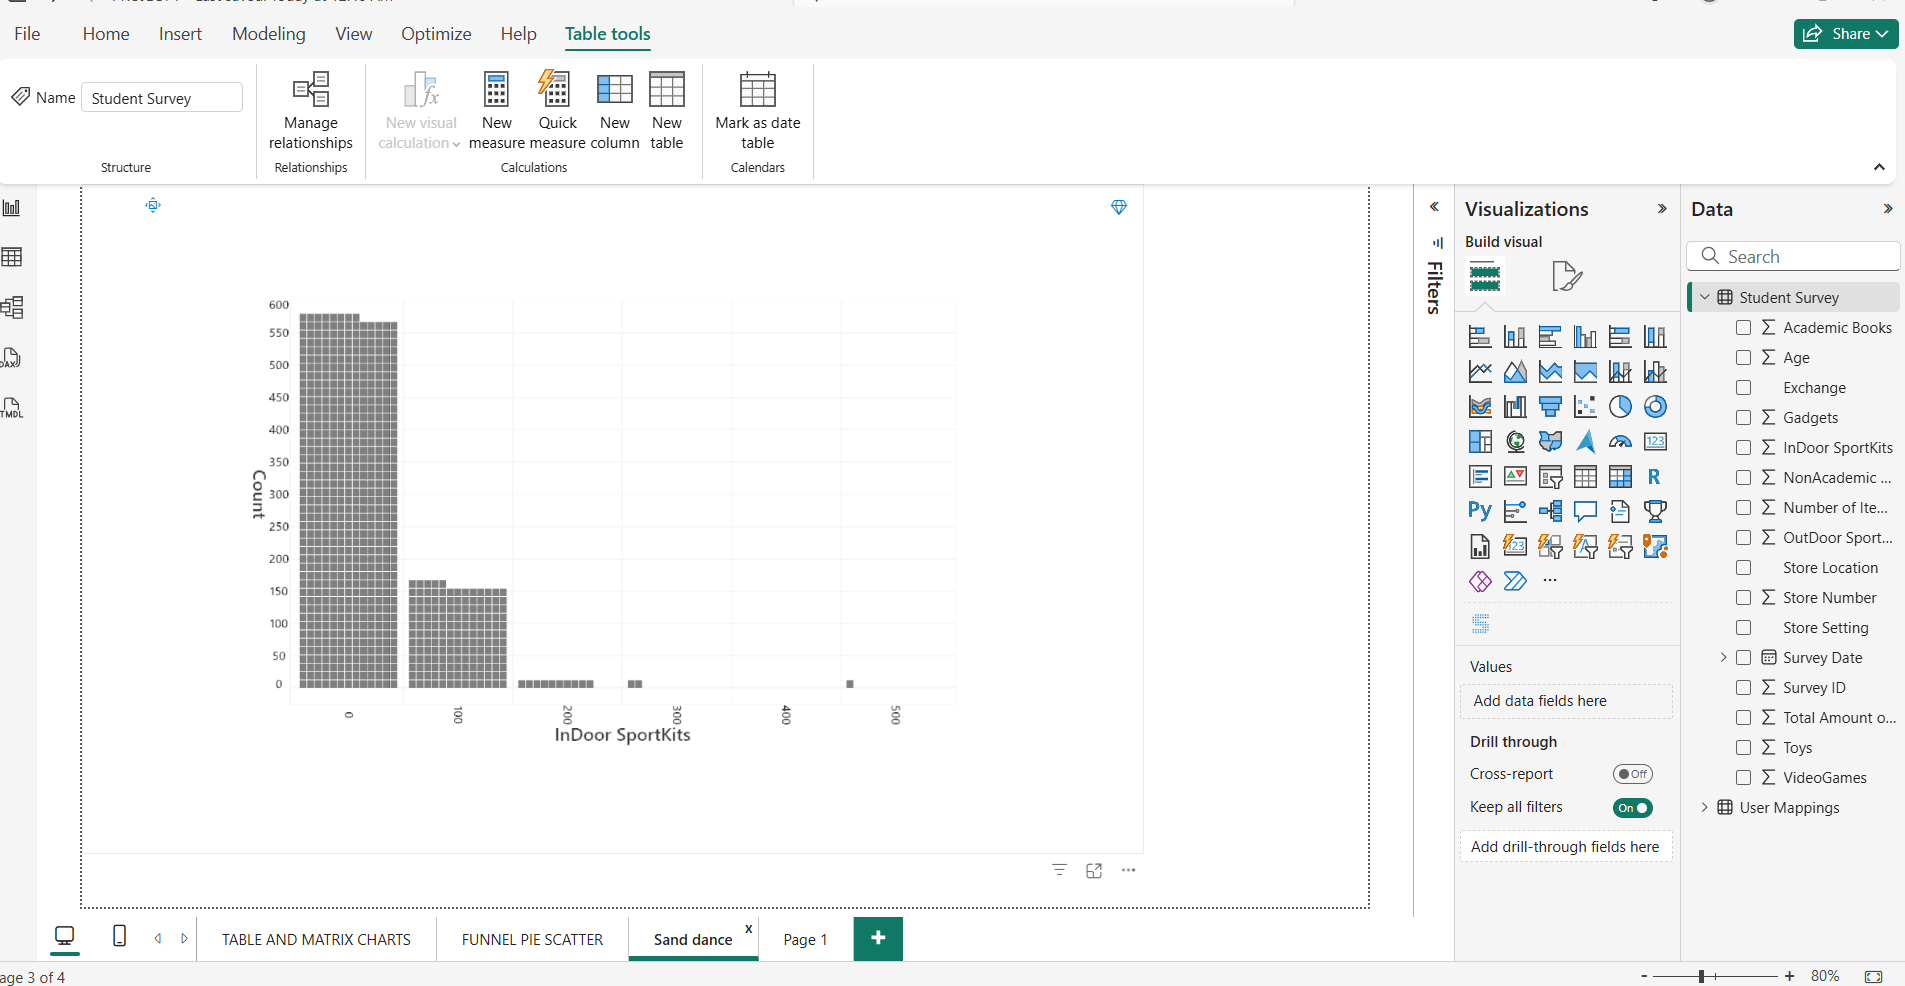

What the dashboard file says about the page in this screenshot:
{"tool":"powerbi","page":{"name":"Sand dance","canvas":[1280,720],"ordinal":2},"visuals":[{"type":"SandDance201929976D117A654D0BAB8E96507442D80B","fields":{"values":["Student Survey.Age","Student Survey.VideoGames","Student Survey.InDoor SportKits"]},"box":[0,0,1057.1,667.3],"z":0}]}

Visuals, with their boxes on the page's 1280x720 design canvas (x1, y1, x2, y2). These are canvas units, not pixel positions in the 1905x986 screenshot, which may show the page scaled, cropped or inside an application window:
SandDance201929976D117A654D0BAB8E96507442D80B - Student Survey.Age x Student Survey.VideoGames: (0,0,1057,667)
